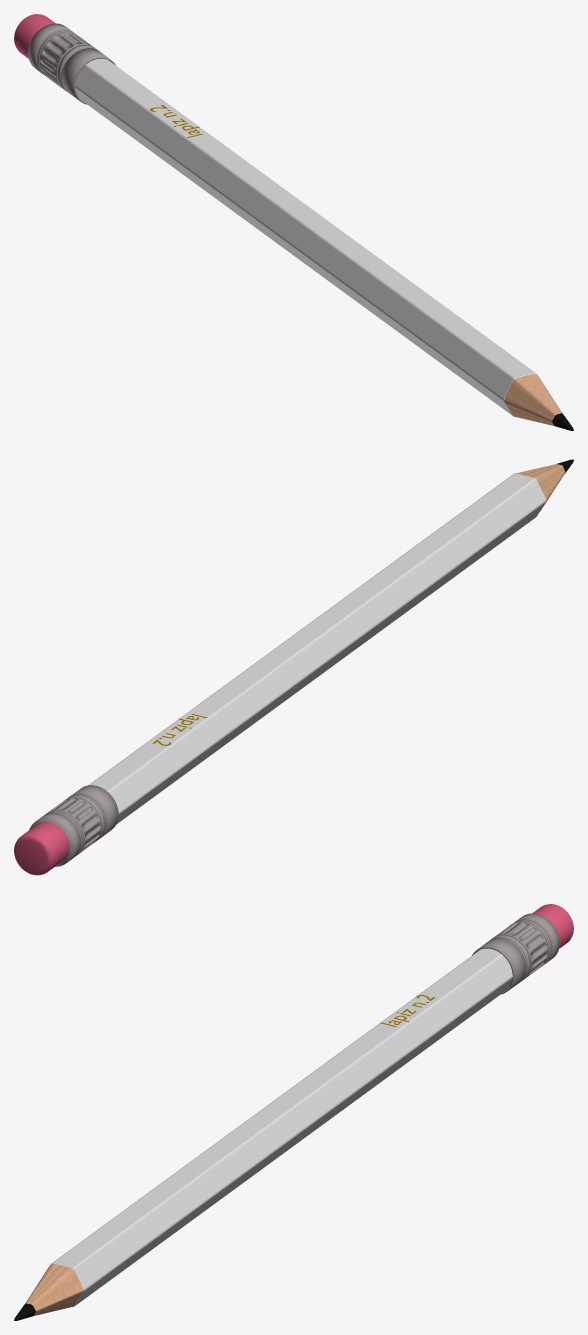
Rendered from pencil.glb.
3 renders of one model, top to bottom at view 1: azimuth 30°, elevation 25°; view 2: azimuth 150°, elevation 25°; view 3: azimuth 330°, elevation 25°, orthographic.
Parts seen in each view (by area): view 1: Cylinder_MaderaNaranja_0, Cylinder.003_Metal_0, Cylinder.004_Madera Interna_0, Cylinder.002_Goma_0; view 2: Cylinder_MaderaNaranja_0, Cylinder.003_Metal_0, Cylinder.002_Goma_0, Cylinder.004_Madera Interna_0; view 3: Cylinder_MaderaNaranja_0, Cylinder.003_Metal_0, Cylinder.004_Madera Interna_0, Cylinder.002_Goma_0.
Boxes of the visible parts, x1,y1,x2,y2 form: Cylinder_MaderaNaranja_0: (75, 58, 536, 416); Cylinder.003_Metal_0: (28, 23, 115, 104); Cylinder.004_Madera Interna_0: (504, 374, 562, 425); Cylinder.002_Goma_0: (14, 14, 54, 58); Cylinder_MaderaNaranja_0: (88, 473, 546, 824); Cylinder.003_Metal_0: (29, 785, 118, 866); Cylinder.002_Goma_0: (14, 821, 69, 875); Cylinder.004_Madera Interna_0: (516, 464, 565, 510); Cylinder_MaderaNaranja_0: (51, 948, 512, 1306); Cylinder.003_Metal_0: (472, 913, 559, 994); Cylinder.004_Madera Interna_0: (25, 1264, 83, 1315); Cylinder.002_Goma_0: (532, 904, 573, 948).
Size of the model in its own units: 1.03 by 1.03 by 21.52.
Materials: 6 (1 with a texture image).
